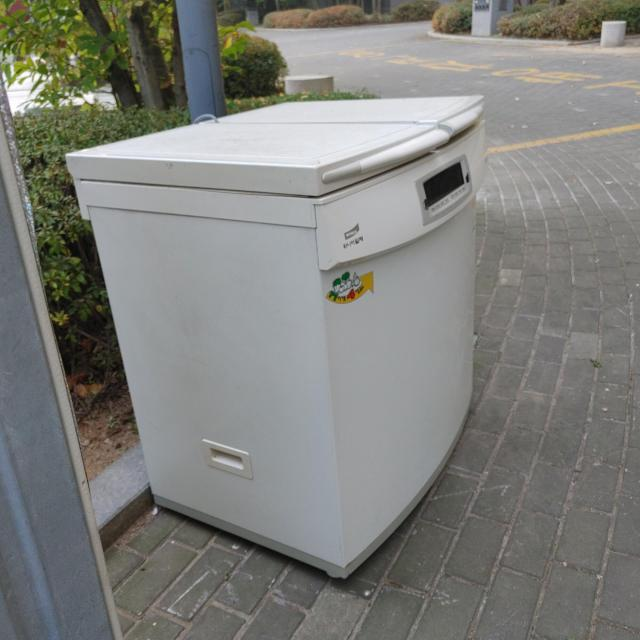refrigerator: (65, 95, 484, 582)
